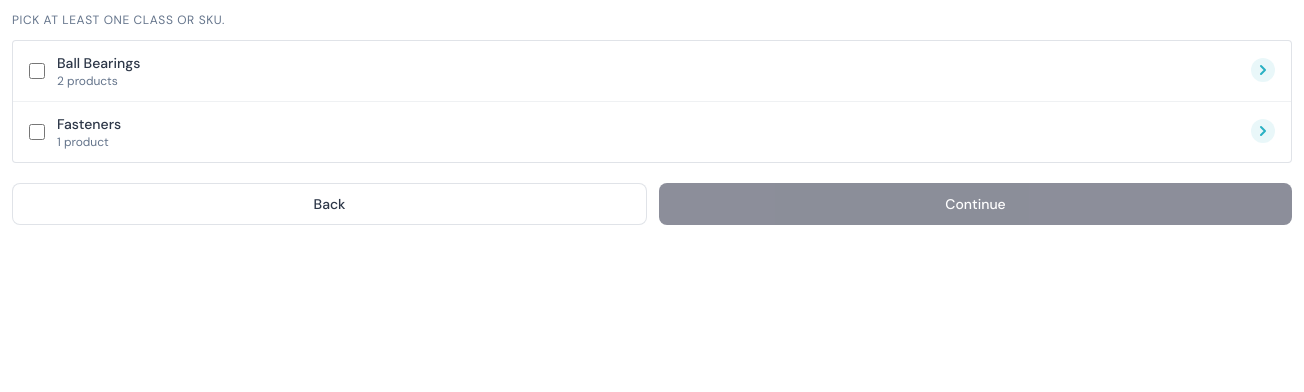
Test: CatalogStep › expands products via the standard chevron accordion, not a text link, and labels the child level Products
expect the text "Ball Bearings" is shown: met, box x1=57 y1=54 x2=140 y2=72
Step 1. Click the button named "products in ball bearings" → [1263, 71], box x1=1247 y1=54 x2=1279 y2=88
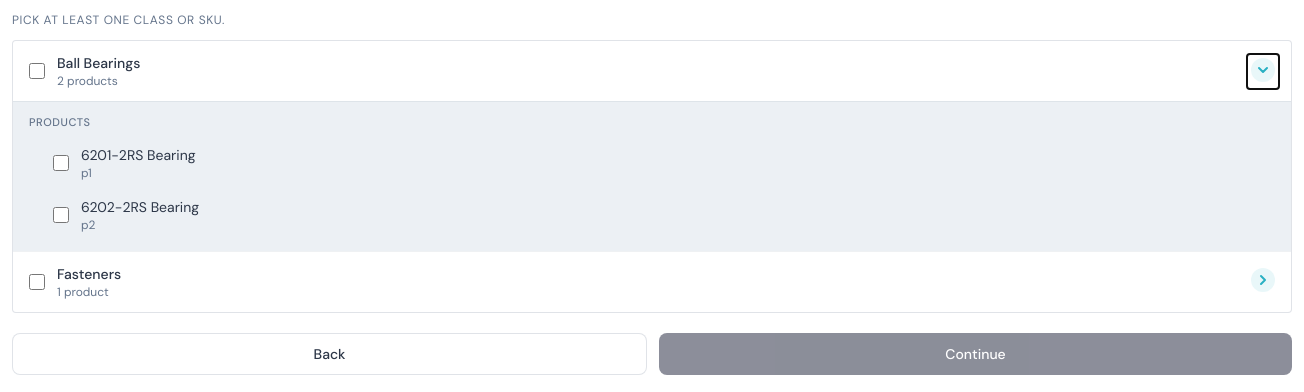
expect the text "6201-2RS Bearing" is shown: met, box x1=81 y1=146 x2=196 y2=164
expect the button named "products in ball bearings" is expanded: met, box x1=1247 y1=54 x2=1279 y2=88
expect the text "Products" is shown: met, box x1=29 y1=115 x2=90 y2=129
